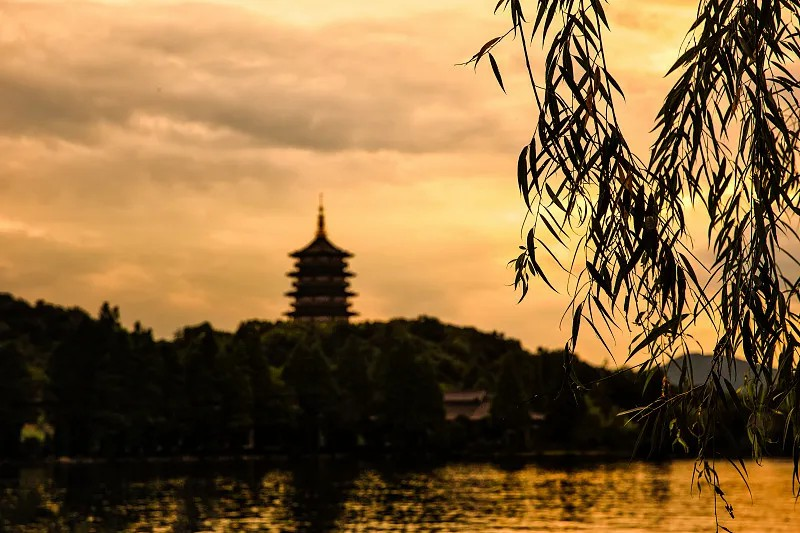Leifeng: (281, 192, 360, 327)
